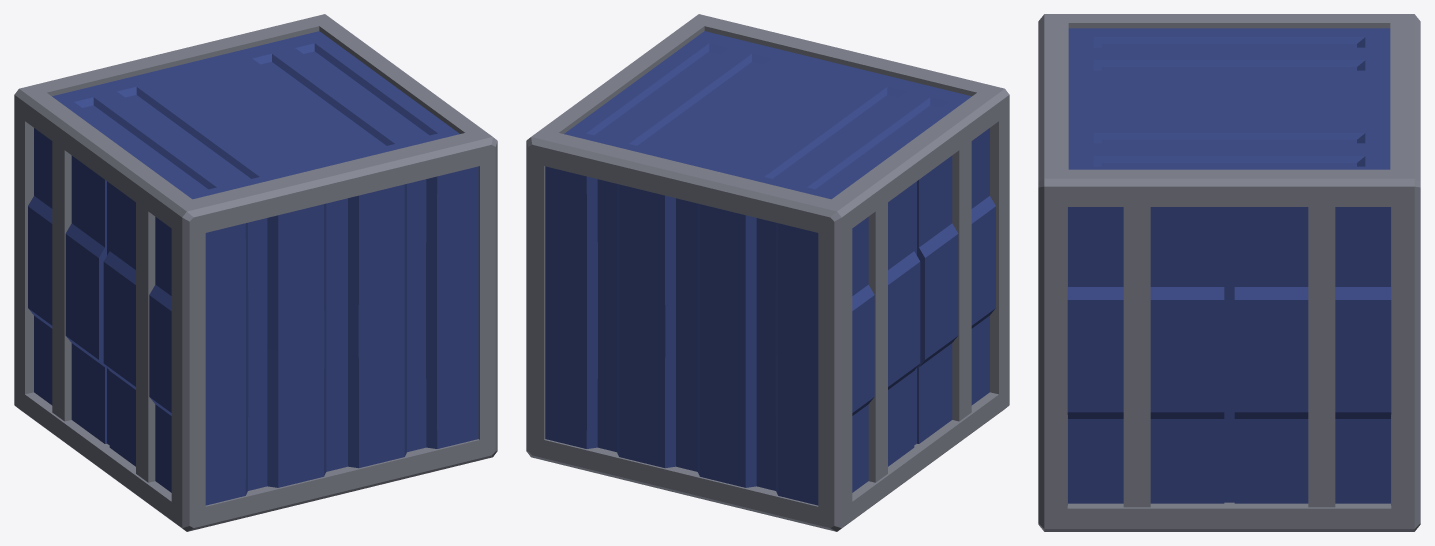
Rendered from SmallContainer.gltf.
3 views of the same model, side by side, from view 1: azimuth 30°, elevation 25°; view 2: azimuth 150°, elevation 25°; view 3: azimuth 270°, elevation 25° (orthographic). The views are drawn at different scales.
Parts seen in each view (by area): view 1: Container_Small; view 2: Container_Small; view 3: Container_Small.
Boxes of the visible parts, x1=… form: Container_Small: x1=14, y1=14, x2=497, y2=531; Container_Small: x1=526, y1=14, x2=1009, y2=531; Container_Small: x1=1038, y1=14, x2=1420, y2=531.
Bounding box in the file's own units: 2.19 × 2.13 × 2.09.
